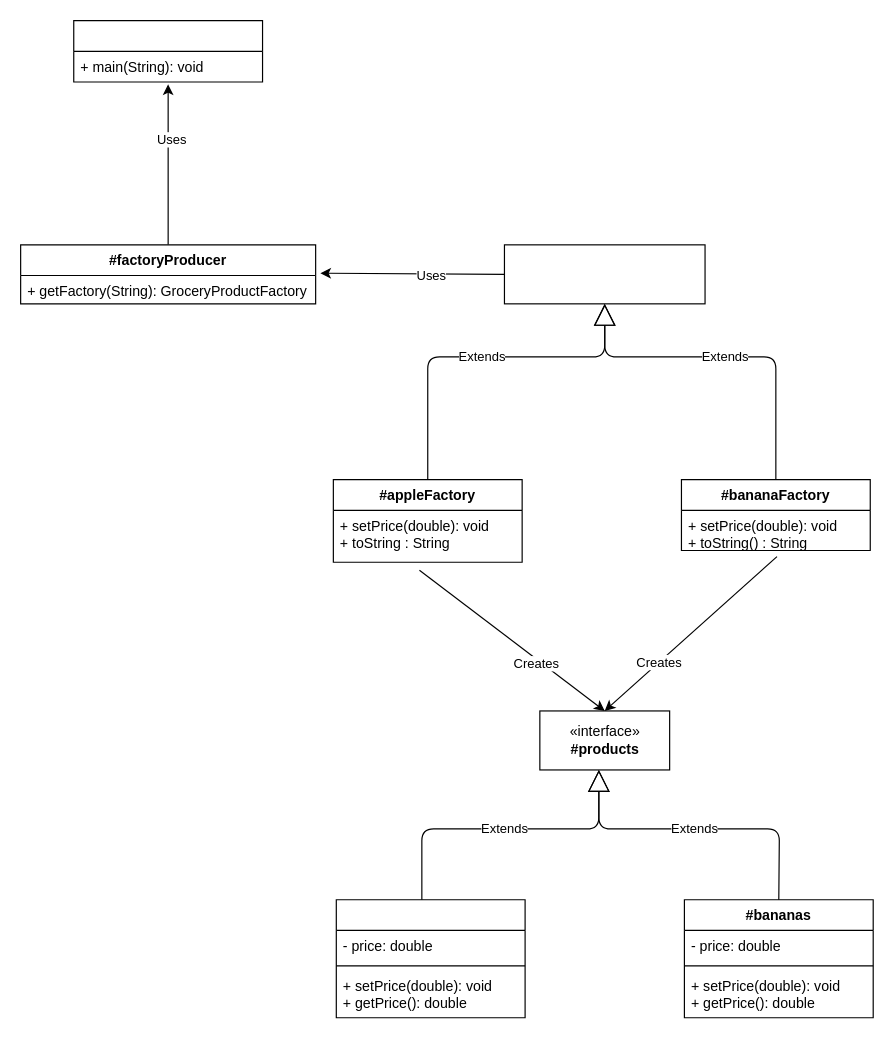
This 894x1042 diagram has some shape labels left out. The box of each missing label's shape, as (x1, y1, x2, y2) in pixels:
#apples: (335, 899, 525, 1018)
#test: (73, 19, 263, 82)
«interface» #GroceryProductFactory: (503, 244, 705, 304)
